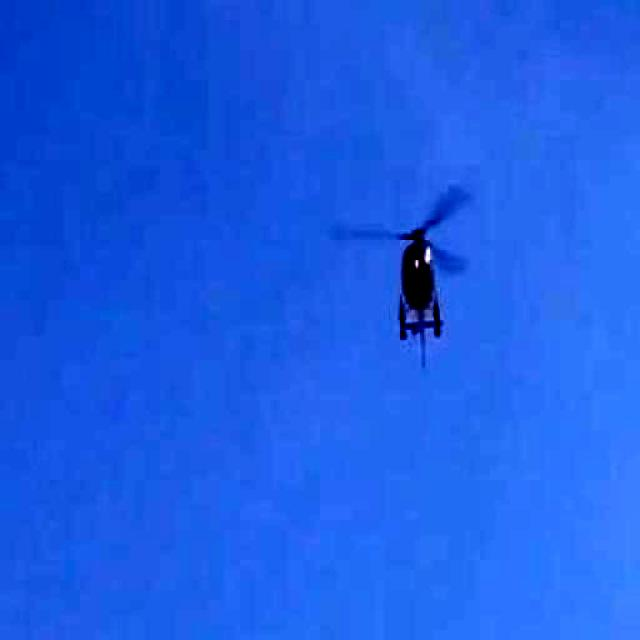drone: (345, 164, 521, 394)
